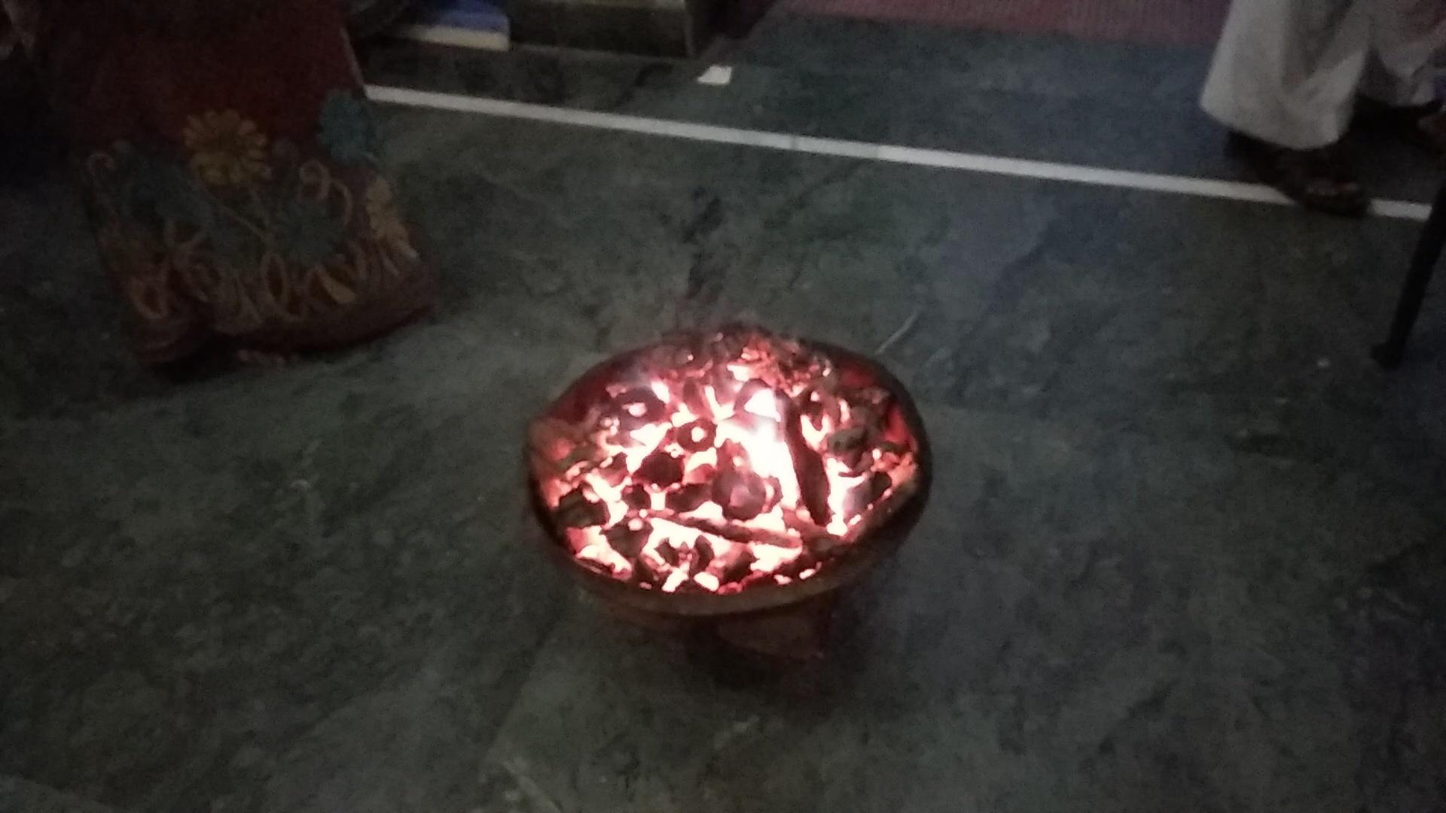fire: (496, 307, 866, 623)
